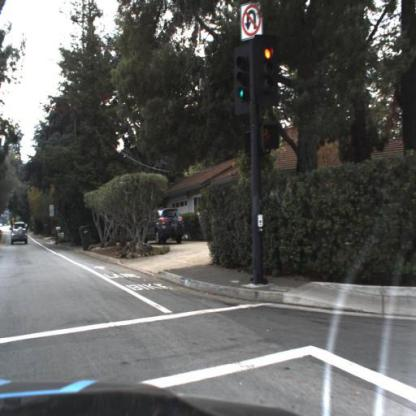car: (139, 207, 190, 248), (11, 221, 29, 247)
trafficLight-Green: (234, 50, 253, 119)
trafficLight-Red: (255, 38, 279, 107)
